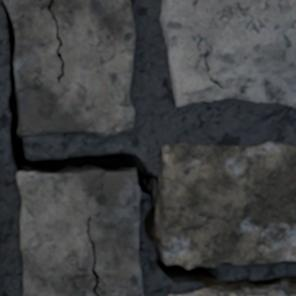brick: (5, 0, 134, 136), (160, 142, 295, 267), (17, 171, 142, 295), (160, 0, 295, 107), (168, 289, 295, 295)
crack: (0, 0, 295, 294)
